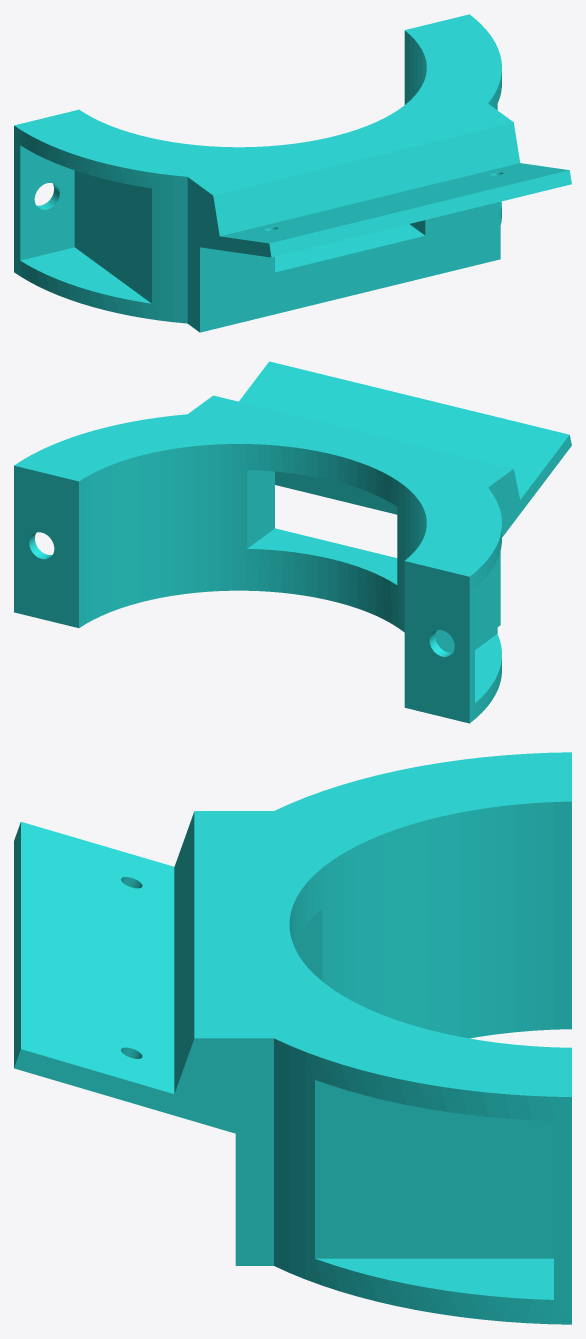
File: UR3_camera_mount_rectangle_.dae
The picture shows the model from 3 angles, top to bottom: view 1: azimuth 30°, elevation 25°; view 2: azimuth 150°, elevation 25°; view 3: azimuth 270°, elevation 25°; orthographic projection. The views are drawn at different scales.
Visible parts, largest first — view 1: Ur3 Camera Mount Upper Rectangle; view 2: Ur3 Camera Mount Upper Rectangle; view 3: Ur3 Camera Mount Upper Rectangle.
Part boxes in pixels (left/top/right/bottom): Ur3 Camera Mount Upper Rectangle: left=14, top=14, right=571, bottom=332; Ur3 Camera Mount Upper Rectangle: left=14, top=361, right=571, bottom=723; Ur3 Camera Mount Upper Rectangle: left=14, top=752, right=571, bottom=1324.
Bounding box in the file's own units: 0.091 × 0.0622 × 0.028.
